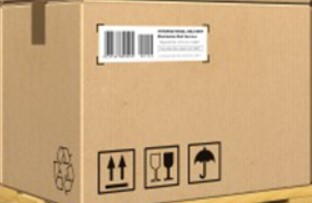stock: (1, 1, 311, 203)
